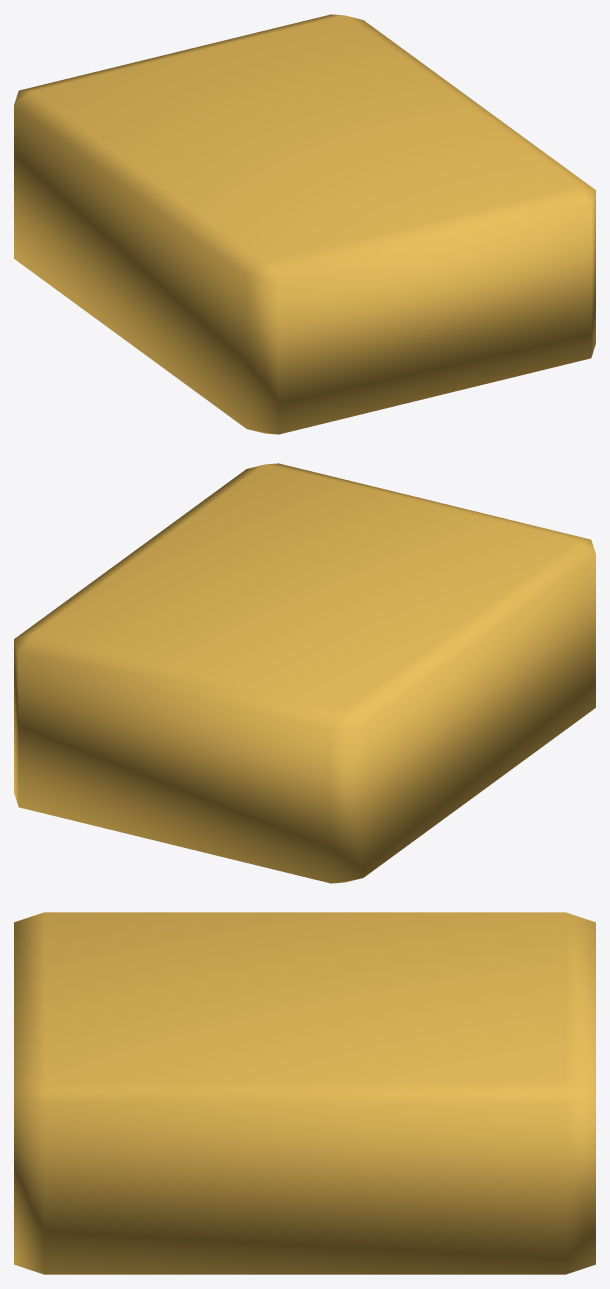
The model's file is butter.fbx.
3 views of the same model, one above another, from view 1: azimuth 30°, elevation 25°; view 2: azimuth 150°, elevation 25°; view 3: azimuth 270°, elevation 25° (orthographic). The views are drawn at different scales.
Parts seen in each view (by area): view 1: Cube; view 2: Cube; view 3: Cube.
Part boxes in pixels (x1,y1,x2,y2): Cube: (14, 14, 595, 434); Cube: (14, 463, 595, 883); Cube: (14, 912, 595, 1274).
Bounding box in the file's own units: 77.55 × 36.41 × 100.
